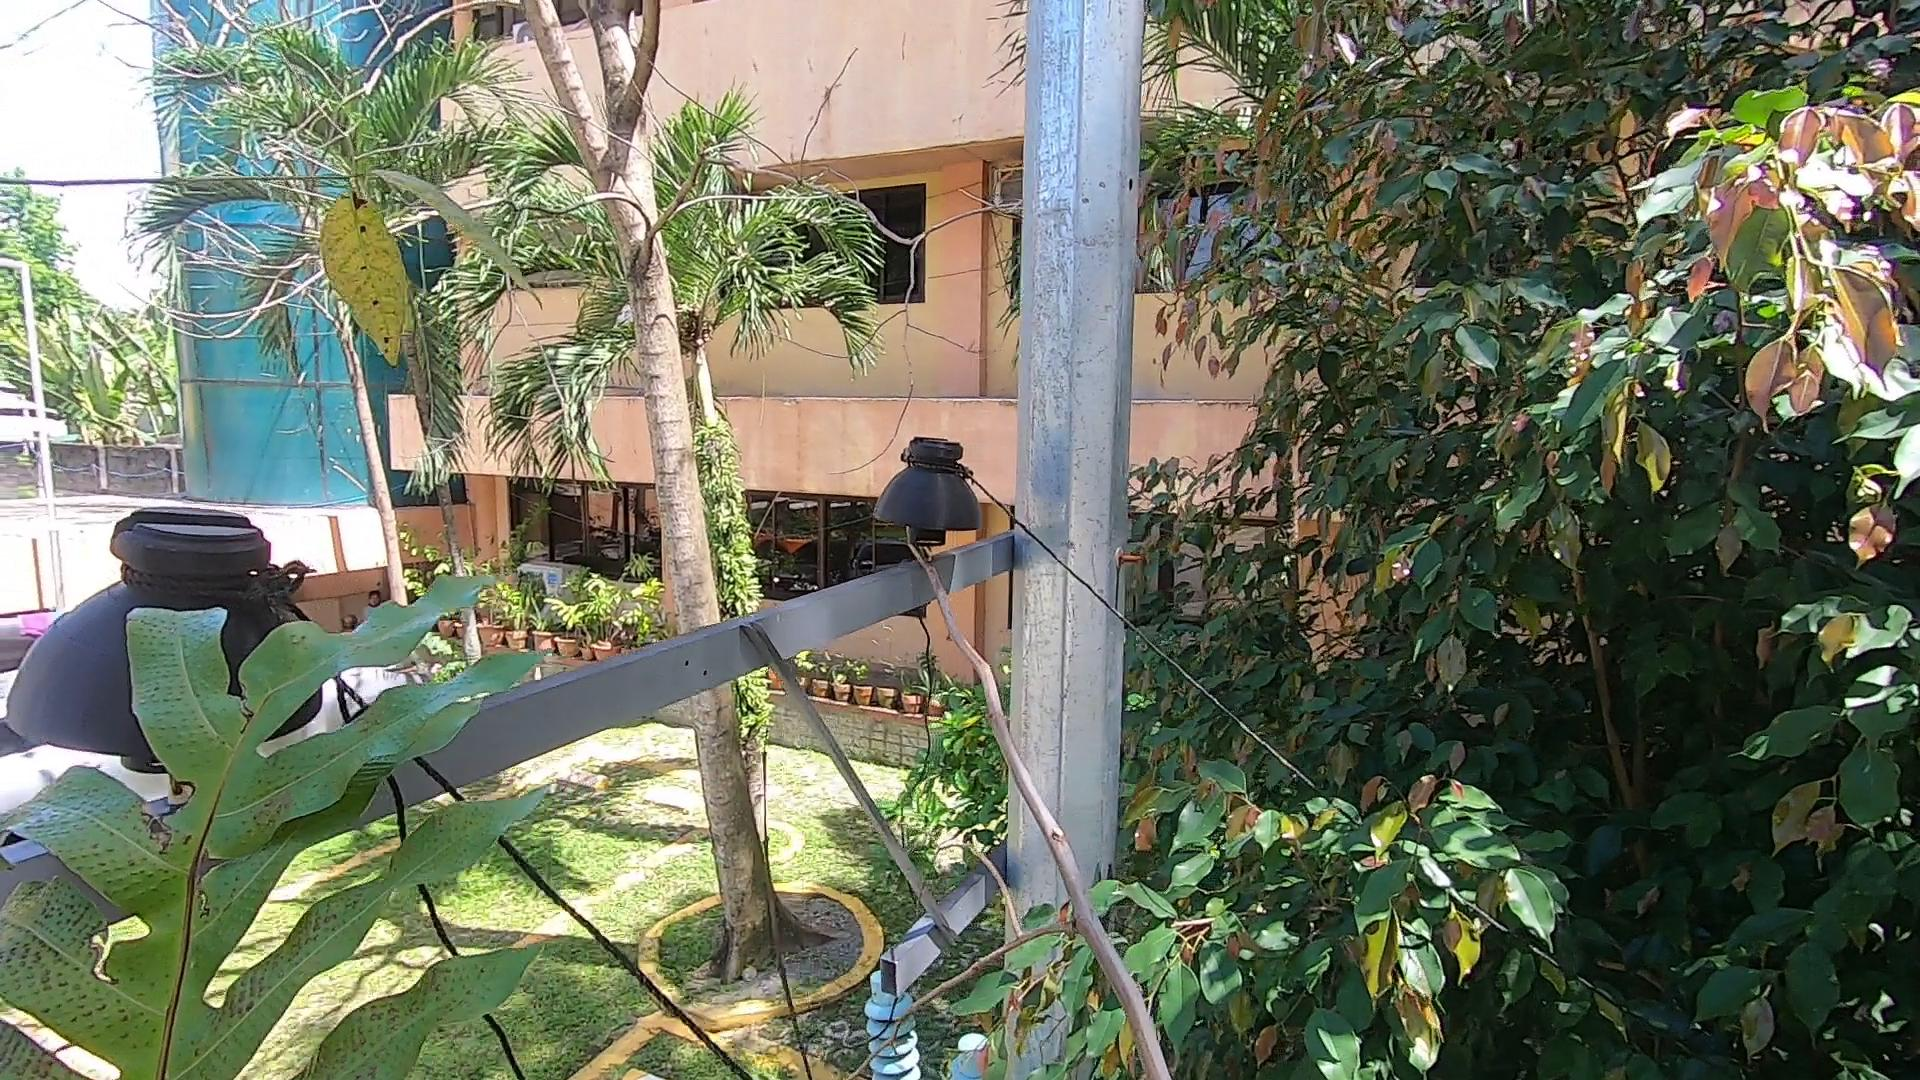branch with leaves: (942, 899, 1176, 1080)
leaf: (8, 568, 580, 1080)
tree branch: (874, 495, 1193, 1080)
